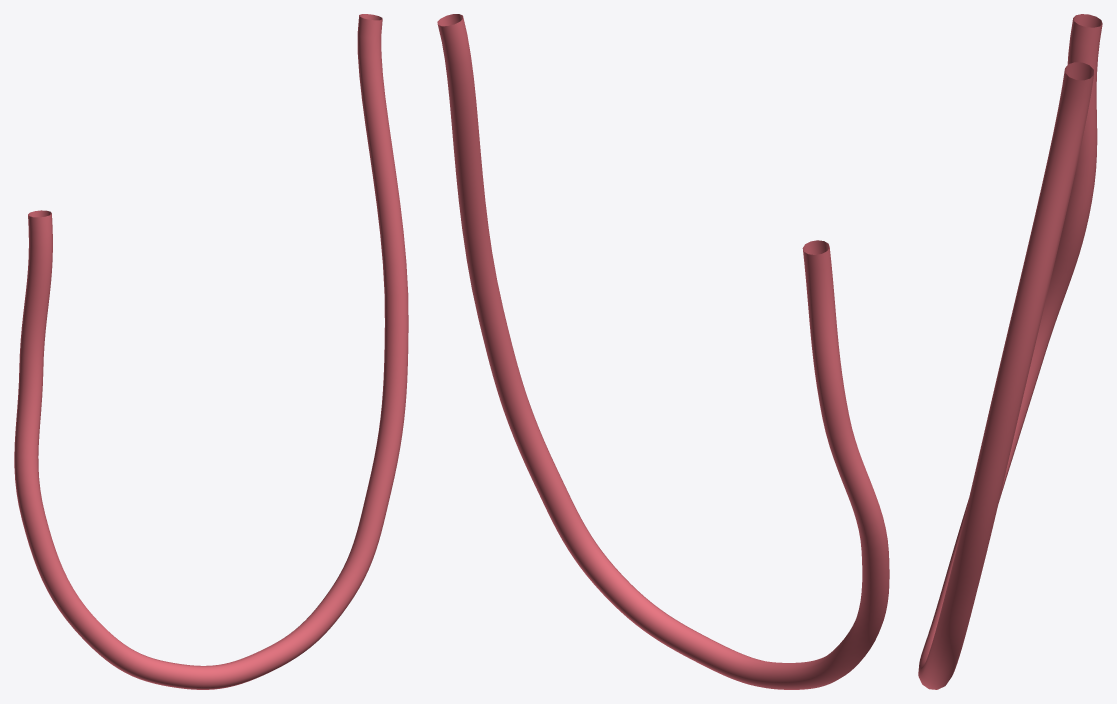
The picture shows the model from 3 angles, left to right: view 1: azimuth 30°, elevation 25°; view 2: azimuth 150°, elevation 25°; view 3: azimuth 270°, elevation 25°; orthographic projection. The views are drawn at different scales.
Parts seen in each view (by area): view 1: ZA_6db04144c2dffdf2; view 2: ZA_6db04144c2dffdf2; view 3: ZA_6db04144c2dffdf2.
Part boxes in pixels (bbox=[...]): ZA_6db04144c2dffdf2: bbox=[14, 14, 408, 689]; ZA_6db04144c2dffdf2: bbox=[437, 14, 889, 689]; ZA_6db04144c2dffdf2: bbox=[918, 14, 1102, 689].
Bounding box in the file's own units: 0.0488 × 0.0715 × 0.0166.
